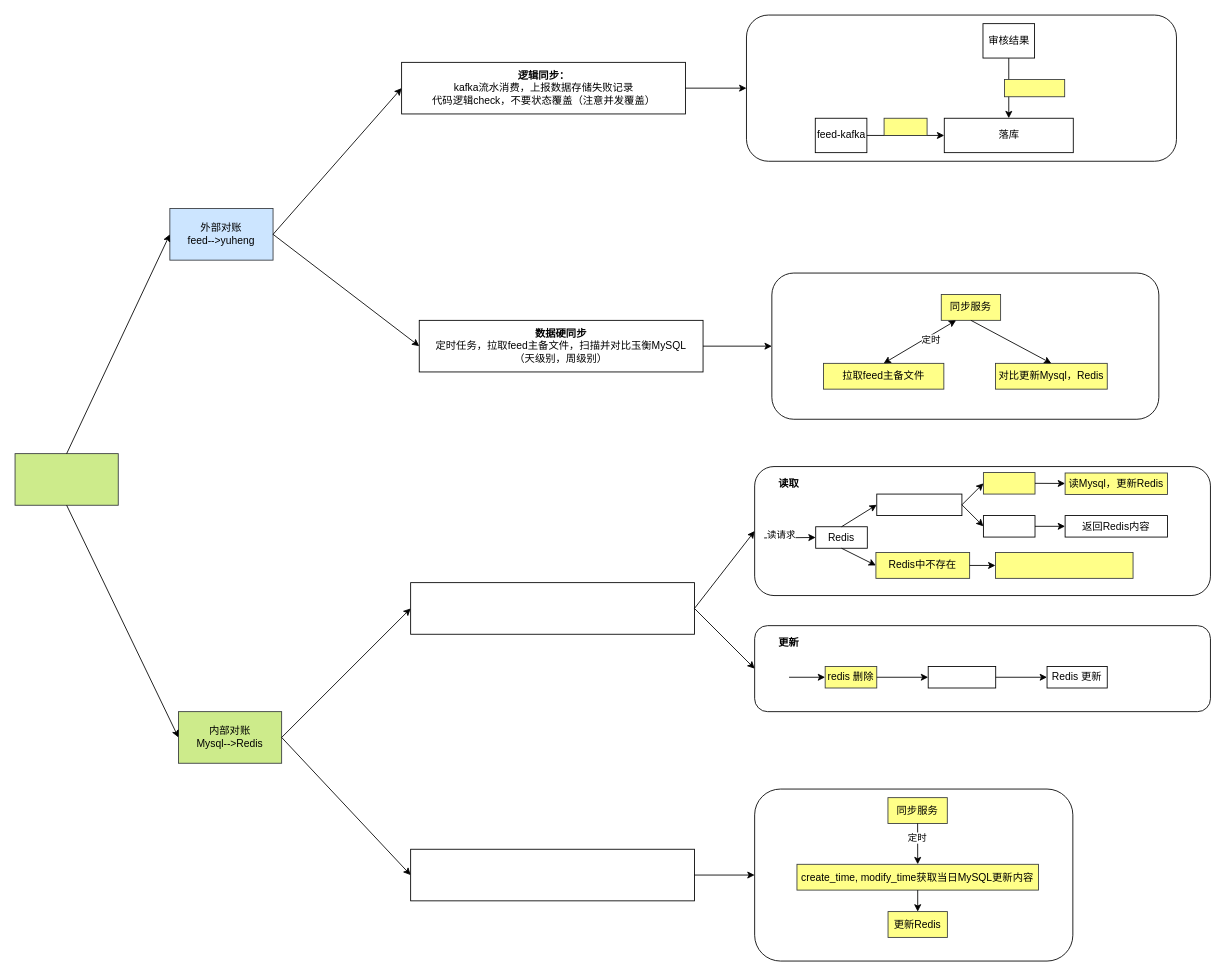
This 1226x976 diagram has some shape labels left out. Each missing label, with the centre of its shape:
MySQL更新: pixel 961 677
Redis中存在: pixel 919 504
失败上报: pixel 905 126
数据对账: pixel 66 479
数据硬同步 定时任务，当日修改内容同步进Redis，更新过期时间: pixel 552 874
未过期: pixel 1009 526
状态check: pixel 1034 88
缓存一致性 ： Redis中拉取不到数据从MySQL中拉取并补充Redis Redis添加过期时间，保证一定时间后从数据中拉取新数据: pixel 552 608
读Mysql，补充Redis: pixel 1064 565
过期: pixel 1009 483
